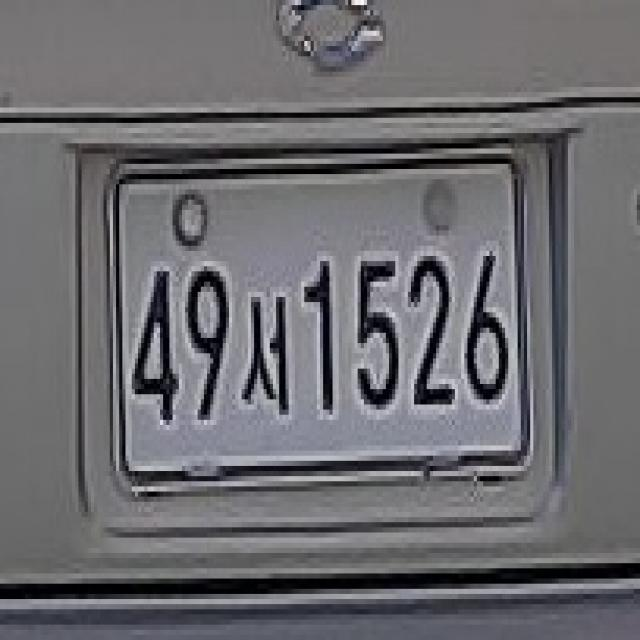1: (302, 250, 340, 442)
2: (408, 237, 456, 422)
4: (132, 262, 178, 437)
5: (354, 241, 400, 427)
6: (464, 243, 512, 416)
9: (183, 259, 236, 436)
license_plate: (91, 145, 541, 486)
seo: (241, 274, 292, 428)
